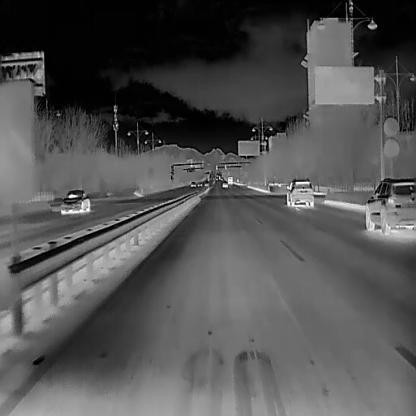car: (364, 174, 415, 236), (285, 176, 313, 209), (61, 187, 90, 214), (226, 175, 233, 185), (189, 181, 196, 187), (221, 181, 227, 187), (196, 180, 202, 186), (203, 180, 208, 187)
